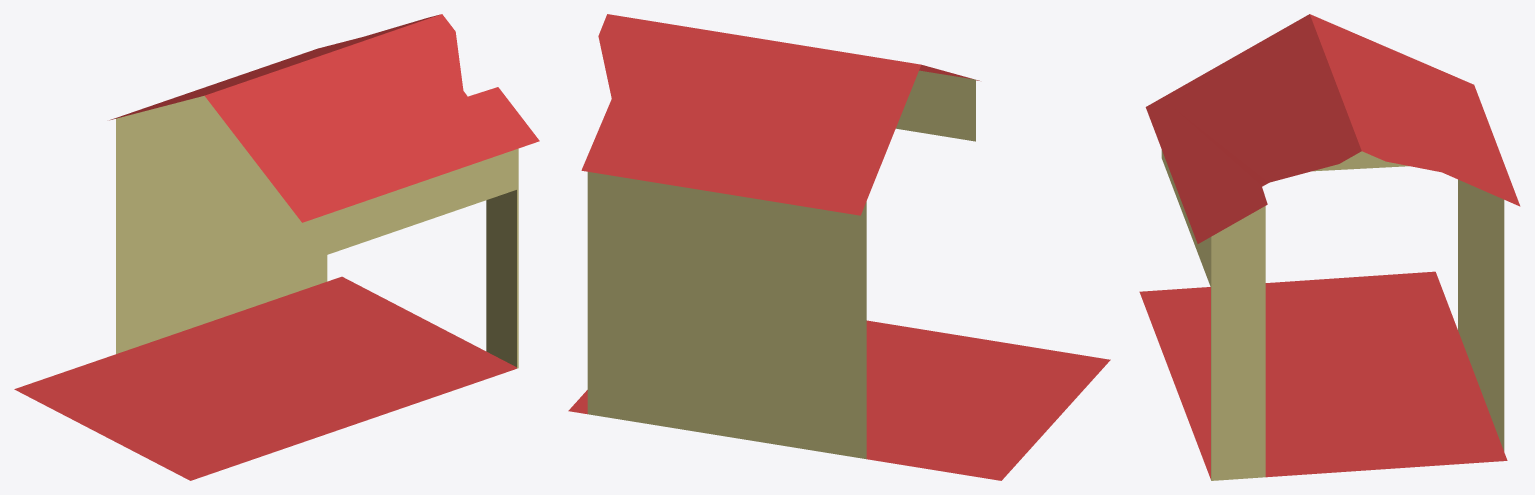
3 renders of one model, left to right at view 1: azimuth 30°, elevation 25°; view 2: azimuth 150°, elevation 25°; view 3: azimuth 270°, elevation 25°, orthographic. The views are drawn at different scales.
Bounding box in the file's own units: 15.72 × 11.65 × 11.01.
